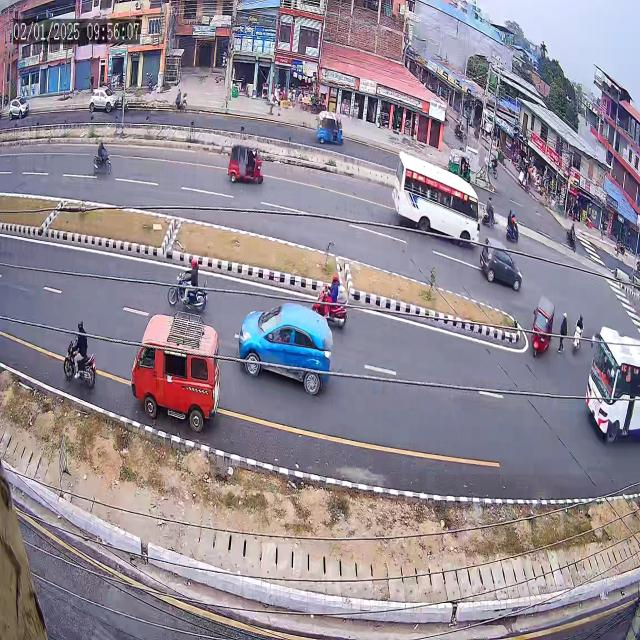auto: (222, 127, 271, 199), (528, 288, 556, 369), (311, 104, 349, 155)
bus: (387, 144, 482, 252), (585, 309, 640, 456)
car: (236, 299, 337, 409), (476, 231, 526, 298)
motorcycle: (60, 298, 100, 396), (165, 248, 212, 314), (308, 274, 356, 333), (88, 134, 118, 182), (572, 295, 586, 369), (504, 204, 522, 253), (562, 215, 579, 260), (481, 193, 499, 234)
van: (127, 300, 227, 441)
